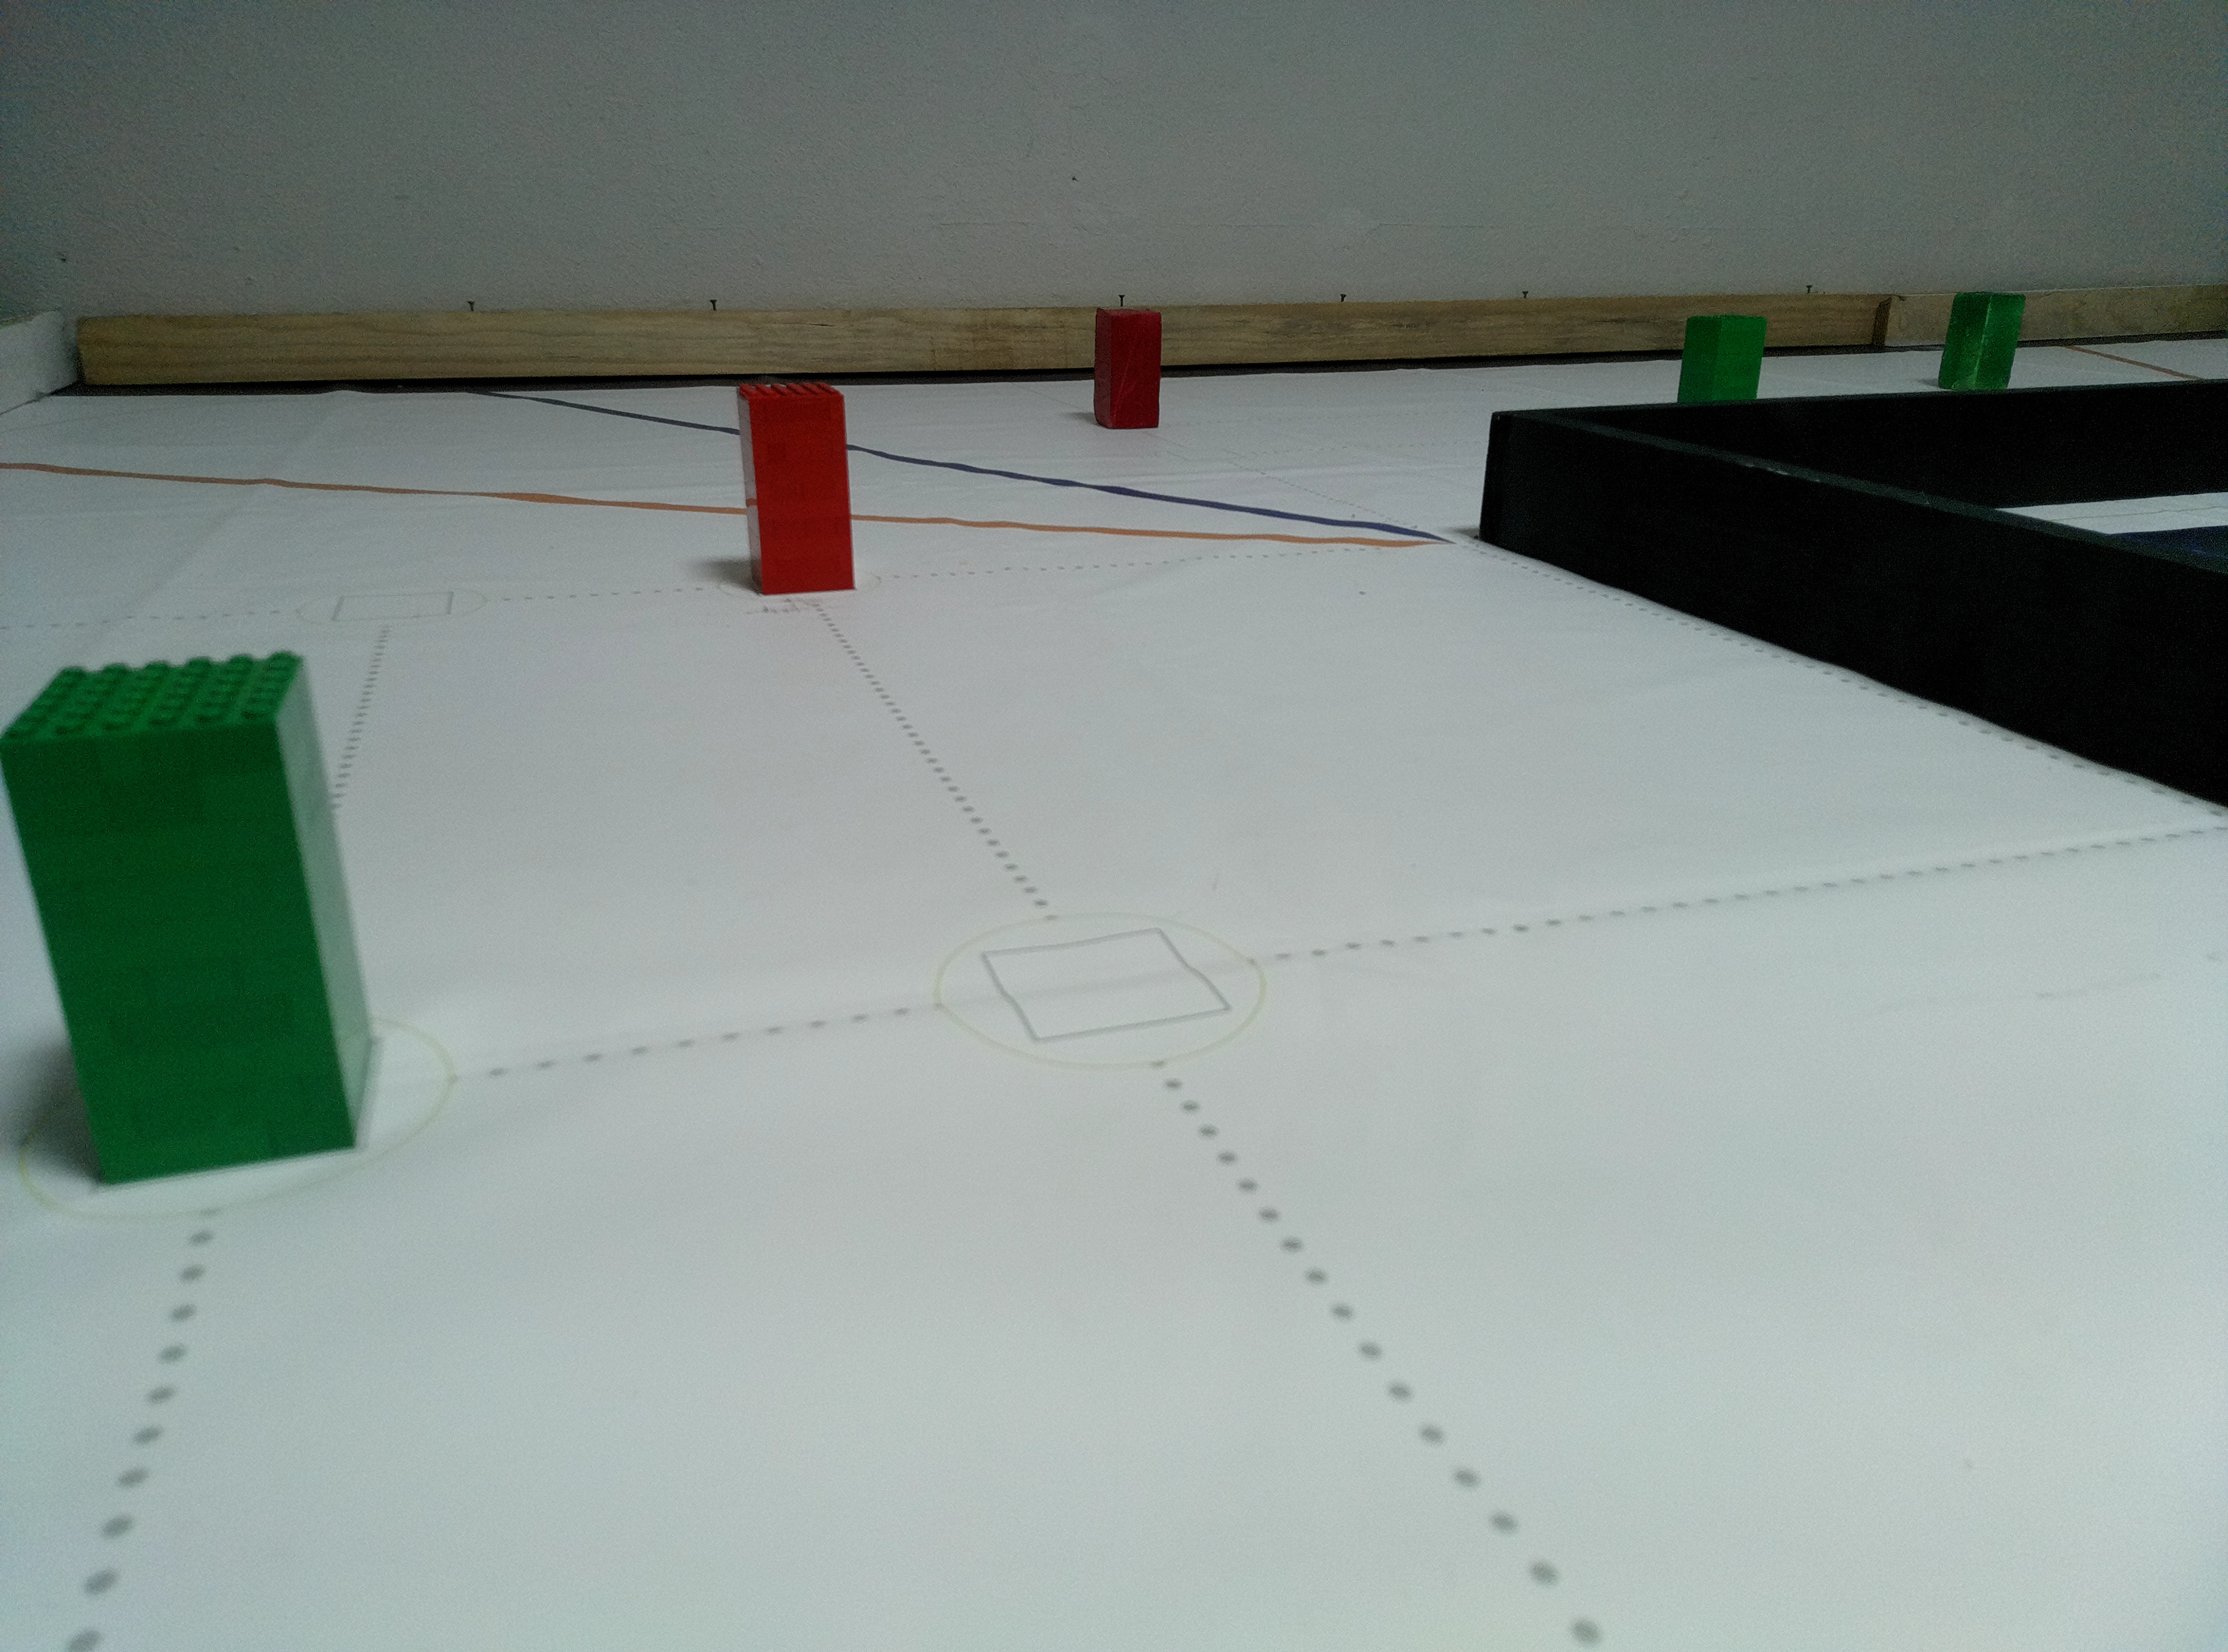greenbox: (2, 649, 371, 1187), (1942, 290, 2022, 394), (1676, 314, 1754, 401)
redbox: (736, 382, 857, 595), (1093, 305, 1161, 429)
